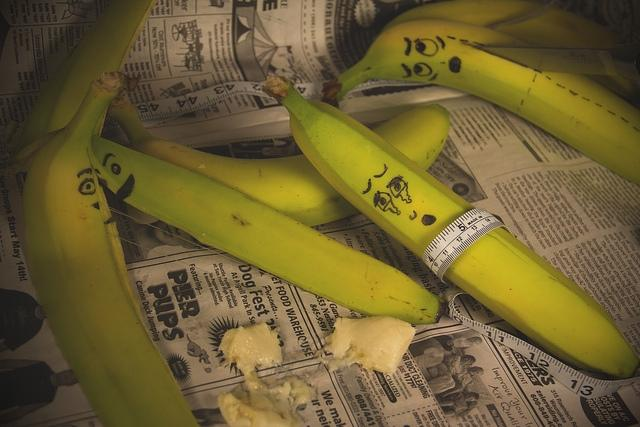banana: (6, 0, 446, 427), (262, 75, 640, 381), (321, 18, 638, 184), (106, 93, 452, 227), (374, 0, 640, 108), (216, 321, 317, 427), (312, 316, 417, 374)
